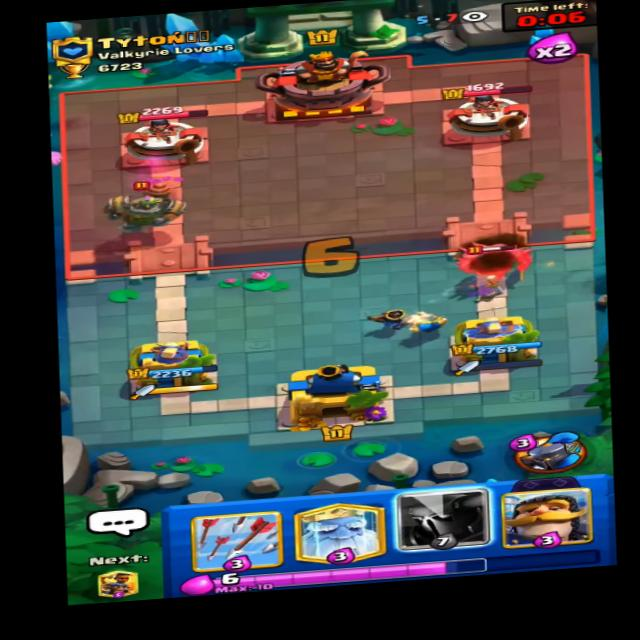goblin-machine: (103, 172, 186, 235)
pekka: (456, 231, 541, 279)
